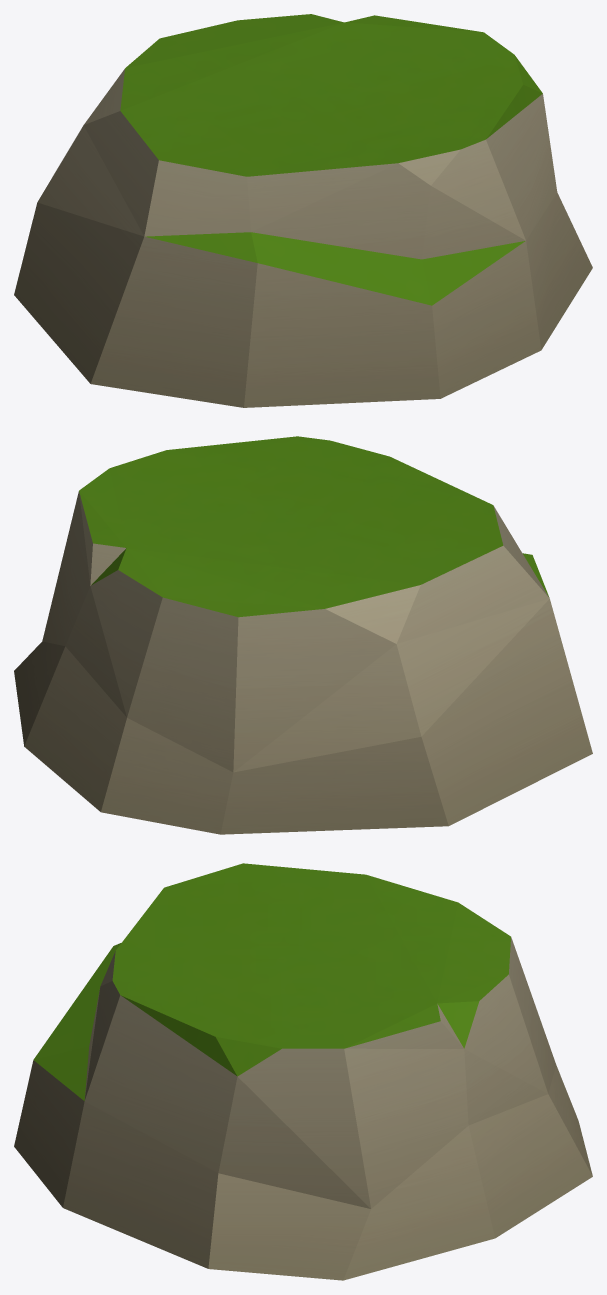
Rendered from RockGrass_02.fbx.
The picture shows the model from 3 angles, top to bottom: view 1: azimuth 30°, elevation 25°; view 2: azimuth 150°, elevation 25°; view 3: azimuth 270°, elevation 25°; orthographic projection.
Parts seen in each view (by area): view 1: RockGrass_02; view 2: RockGrass_02; view 3: RockGrass_02.
Boxes of the visible parts, <box> form: RockGrass_02: <box>14,14,592,407</box>; RockGrass_02: <box>14,436,592,834</box>; RockGrass_02: <box>14,863,592,1280</box>.
Size of the model in its own units: 352 by 128 by 335.
